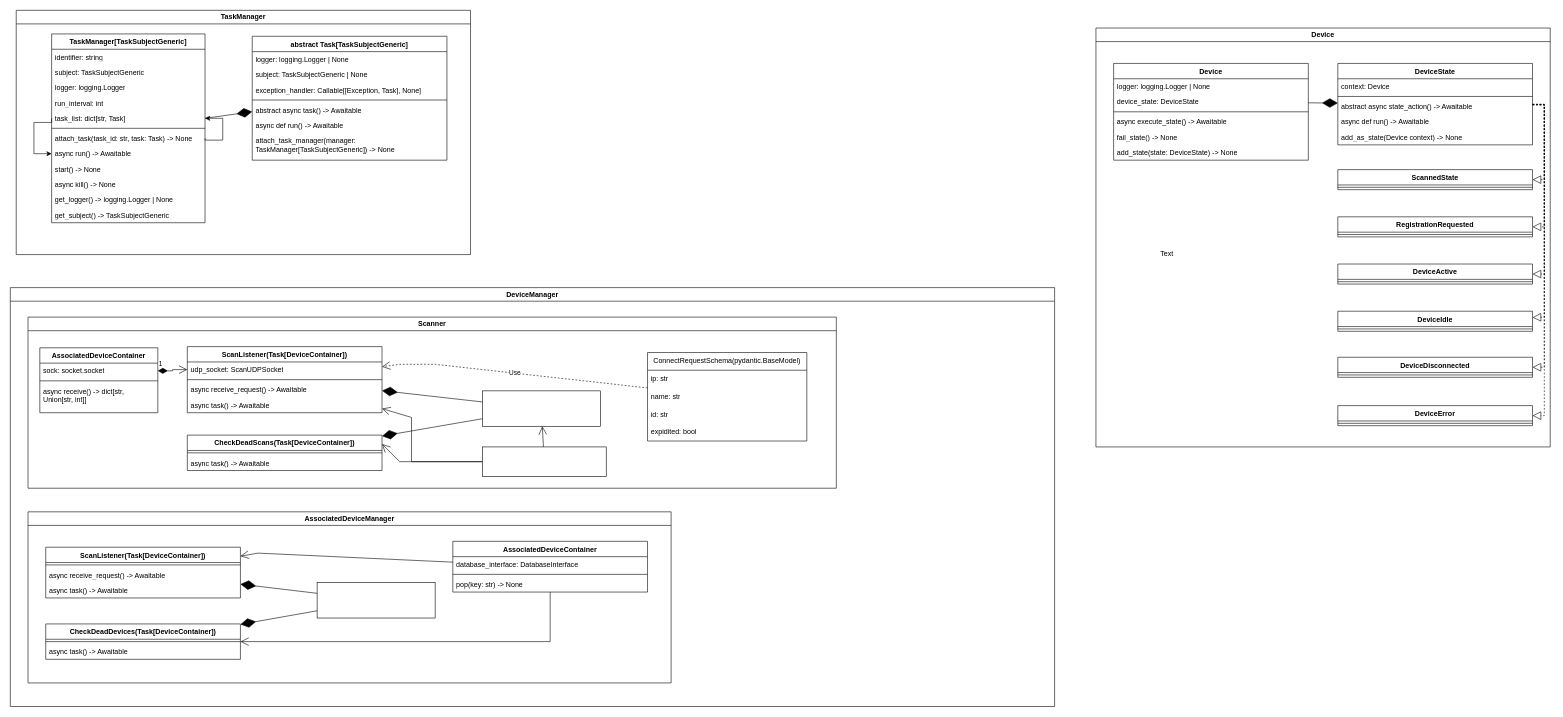
Some shapes in this 1563 by 717 pixel diagram are drawn without their labels. Each missing label, with the centre of its shape:
"associated_device_manager: TaskManager[DeviceContainer]" belongs at point 376,600.
"DeviceContainer: dict[str, Device]" belongs at point 544,461.
"scanner: TaskManager[DeviceContainer]" belongs at point 541,408.
